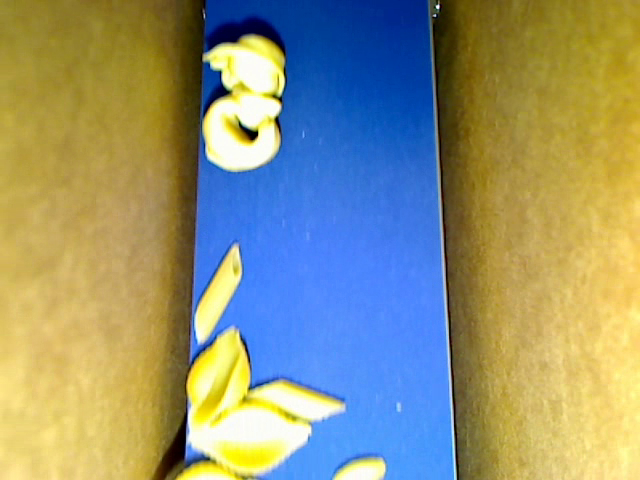elbow: (331, 456, 387, 479)
penne: (194, 242, 243, 343), (244, 380, 343, 420)
shell: (186, 408, 311, 477), (185, 325, 249, 432)
tortellini: (200, 82, 280, 171), (202, 34, 285, 96)
